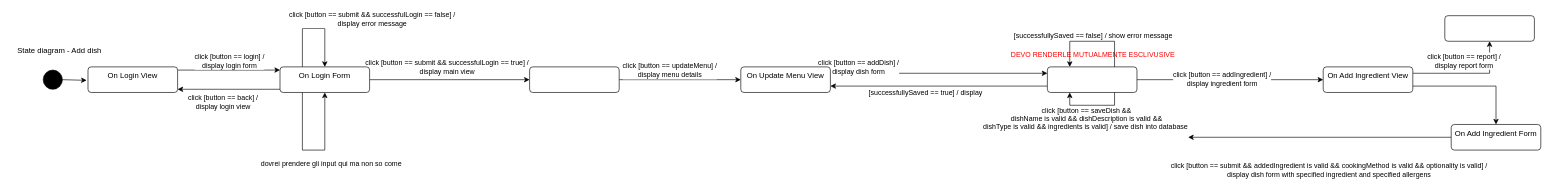
Some shapes in this 1552 by 189 pixel diagram are drawn without their labels. Here are the shapes that lost their labels. From the top down, the box of each, then its label:
(1444, 15, 1534, 41): On Report Form
(529, 66, 619, 92): On Main View
(1047, 66, 1137, 92): On Add Dish View
